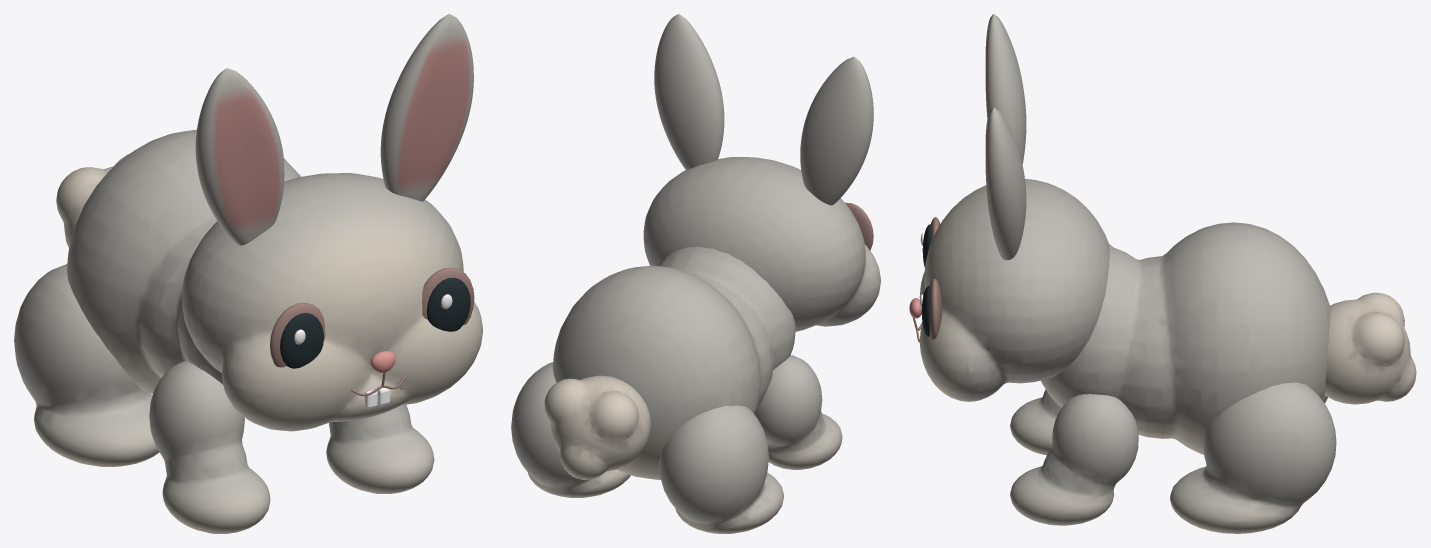
File: rabbit.glb
3 renders of one model, left to right at view 1: azimuth 30°, elevation 25°; view 2: azimuth 150°, elevation 25°; view 3: azimuth 270°, elevation 25°, orthographic. The views are drawn at different scales.
Visible parts, largest first — view 1: HeadMesh, BodyMesh, RearLeftMesh, FrontLeftMesh, FrontRightMesh, TailMesh; view 2: HeadMesh, BodyMesh, RearLeftMesh, TailMesh, FrontLeftMesh, RearRightMesh; view 3: BodyMesh, HeadMesh, RearRightMesh, FrontRightMesh, TailMesh, FrontLeftMesh.
Boxes of the visible parts, box(x1,y1,x2,y2) form: HeadMesh: box(182, 14, 482, 431); BodyMesh: box(66, 129, 300, 393); RearLeftMesh: box(14, 264, 159, 466); FrontLeftMesh: box(149, 360, 270, 533); FrontRightMesh: box(326, 404, 434, 493); TailMesh: box(56, 154, 128, 248); HeadMesh: box(643, 14, 880, 331); BodyMesh: box(552, 247, 795, 479); RearLeftMesh: box(658, 405, 783, 533); TailMesh: box(544, 375, 650, 479); FrontLeftMesh: box(754, 355, 842, 469); RearRightMesh: box(511, 362, 630, 497); BodyMesh: box(1041, 222, 1330, 454); HeadMesh: box(909, 14, 1109, 401); RearRightMesh: box(1170, 382, 1336, 533); FrontRightMesh: box(1010, 394, 1138, 525); TailMesh: box(1324, 292, 1416, 404); FrontLeftMesh: box(1010, 389, 1061, 455).
Size of the model in its own units: 1.04 by 1.61 by 1.74.
